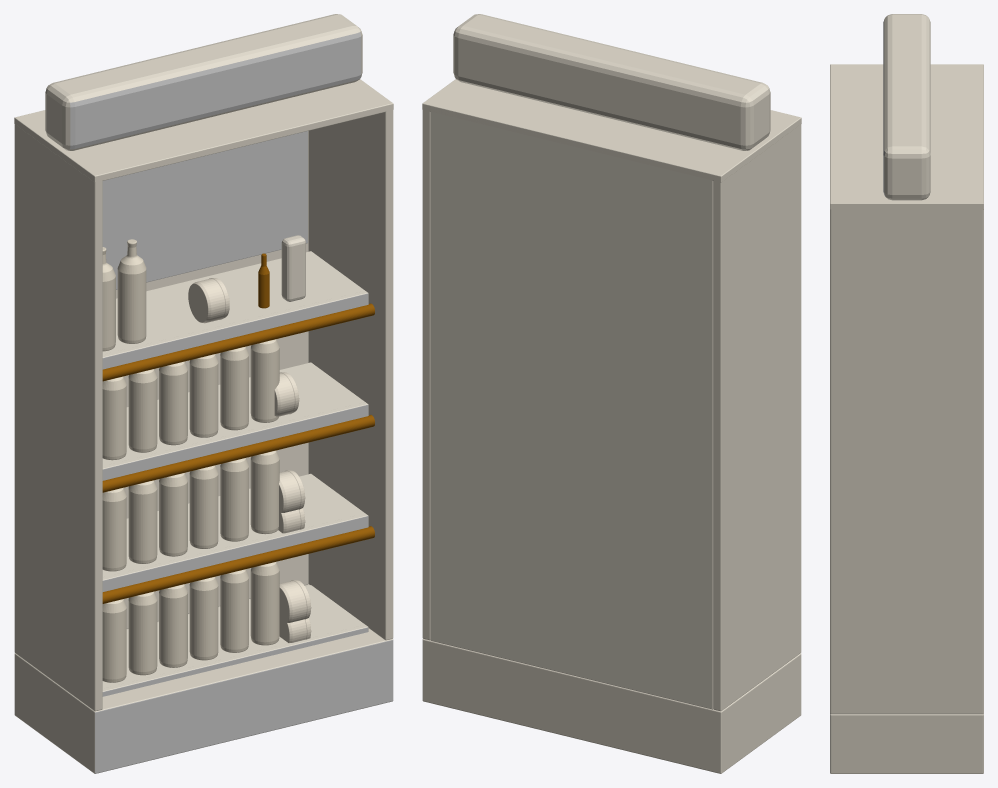
Rendered from display_rack_2.obj.
The picture shows the model from 3 angles, left to right: view 1: azimuth 30°, elevation 25°; view 2: azimuth 150°, elevation 25°; view 3: azimuth 270°, elevation 25°; orthographic projection. The views are drawn at different scales.
Visible parts, largest first — view 1: carcass.side_1, carcass.side_2, base.plinth, crown.arch, header.backlit, carcass.top, shelf.deck_4, carcass.back, shelf.front_4, shelf.front_3, shelf.front_2, shelf.deck_3 (+32 smaller); view 2: carcass.back, carcass.side_1, base.plinth, crown.arch, carcass.top, carcass.side_2; view 3: carcass.side_2, carcass.top, base.plinth, crown.arch.
Part boxes in pixels (x1=…): carcass.side_1: x1=14, y1=124, x2=102, y2=711; carcass.side_2: x1=308, y1=104, x2=393, y2=640; base.plinth: x1=14, y1=584, x2=393, y2=773; crown.arch: x1=45, y1=14, x2=362, y2=150; header.backlit: x1=102, y1=131, x2=307, y2=289; carcass.top: x1=14, y1=79, x2=393, y2=182; shelf.deck_4: x1=102, y1=251, x2=364, y2=354; carcass.back: x1=116, y1=131, x2=308, y2=628; shelf.front_4: x1=102, y1=291, x2=368, y2=369; shelf.front_3: x1=102, y1=402, x2=368, y2=480; shelf.front_2: x1=102, y1=513, x2=368, y2=591; shelf.deck_3: x1=102, y1=362, x2=364, y2=465; carcass.back: x1=430, y1=106, x2=713, y2=709; carcass.side_1: x1=713, y1=124, x2=801, y2=711; base.plinth: x1=422, y1=639, x2=801, y2=773; crown.arch: x1=453, y1=14, x2=770, y2=150; carcass.top: x1=422, y1=79, x2=801, y2=182; carcass.side_2: x1=422, y1=104, x2=430, y2=640; carcass.side_2: x1=830, y1=209, x2=983, y2=714; carcass.top: x1=830, y1=64, x2=983, y2=209; base.plinth: x1=830, y1=713, x2=983, y2=773; crown.arch: x1=883, y1=14, x2=930, y2=200.
Size of the model in its own units: 0.9 by 1.88 by 0.42.
